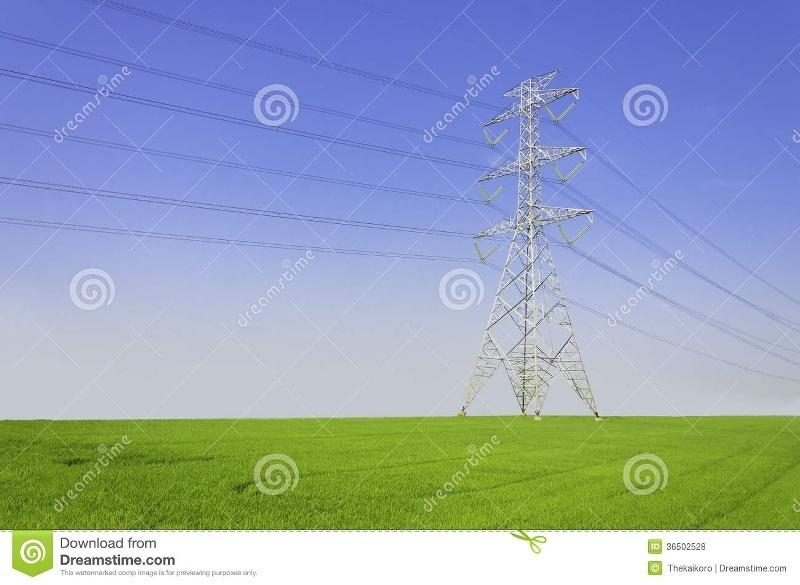power_tower: (488, 83, 598, 424)
